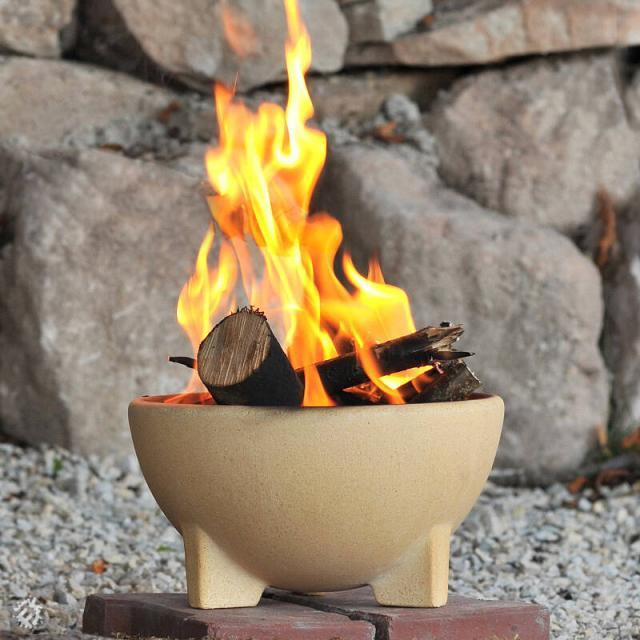Fire: (164, 29, 418, 404)
